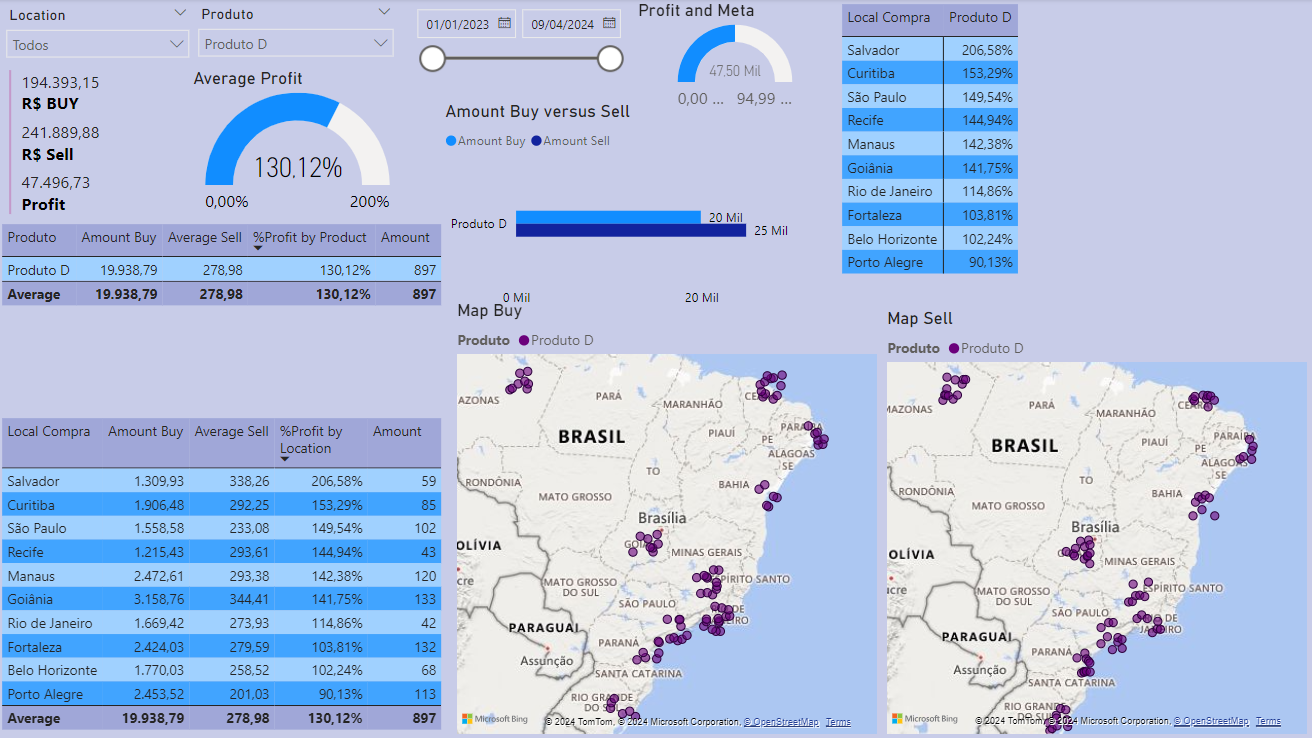

This screenshot's page, from the dashboard's own definition file:
{"tool":"powerbi","page":{"name":"Profit Page","canvas":[1280,720],"ordinal":0},"visuals":[{"type":"clusteredBarChart","title":"Amount Buy versus Sell","fields":{"Y":["Sum(compras.Preço Compra)","Sum(vendas.Preço Venda)"],"Category":["Product.Produto"]},"box":[443.5,0,374.5,275.3],"z":0},{"type":"tableEx","fields":{"Values":["Product.Produto","Sum(compras.Preço Compra)","Avg(vendas.Preço Venda)","TabelaDatas.%LPP","Sum(compras.Quantidade)"]},"box":[0,214,443.5,188.7],"z":1},{"type":"map","title":"Map Sell","fields":{"X":["compras.Longitude"],"Y":["compras.Latitude"],"Series":["Product.Produto"]},"box":[861.8,275.3,418.2,444.5],"z":2},{"type":"slicer","fields":{"Values":["Location.Local Compra"]},"box":[0,1.9,226.6,65.2],"z":3},{"type":"slicer","fields":{"Values":["Product.Produto"]},"box":[226.6,0,210.1,67.1],"z":4},{"type":"map","title":"Map Buy","fields":{"Series":["Product.Produto"],"Y":["vendas.Latitude"],"X":["vendas.Longitude"]},"box":[443.5,275.3,418.2,444.5],"z":5},{"type":"tableEx","fields":{"Values":["Location.Local Compra","Sum(compras.Preço Compra)","Avg(vendas.Preço Venda)","TabelaDatas.%LPP","Sum(compras.Quantidade)"]},"box":[0,402.7,443.5,317.1],"z":6},{"type":"pivotTable","fields":{"Rows":["Location.Local Compra"],"Values":["TabelaDatas.%LPP"],"Columns":["Product.Produto"]},"box":[818,0,462,275.3],"z":7},{"type":"gauge","title":"Average Profit ","fields":{"Y":["TabelaDatas.%LPP"],"MaxValue":["compras.Best"]},"box":[226.6,67.1,213,149.8],"z":8},{"type":"multiRowCard","fields":{"Values":["Location.Total_Compras","Location.Total_Vendas","Location.Lucro"]},"box":[7.8,64.2,211.1,149.8],"z":9}]}

Visuals, with their boxes in screenshot pixels (x1, y1, x2, y2), scaled from the page's 1280x720 canvas onto the 1312x738 screenshot:
"Amount Buy versus Sell" clusteredBarChart: x1=455 y1=0 x2=838 y2=282
tableEx - Product.Produto x Sum(compras.Preço Compra): x1=0 y1=219 x2=455 y2=413
"Map Sell" map: x1=883 y1=282 x2=1311 y2=737
slicer - Location.Local Compra: x1=0 y1=2 x2=232 y2=69
slicer - Product.Produto: x1=232 y1=0 x2=448 y2=69
"Map Buy" map: x1=455 y1=282 x2=883 y2=737
tableEx - Location.Local Compra x Sum(compras.Preço Compra): x1=0 y1=413 x2=455 y2=737
pivotTable - Location.Local Compra x TabelaDatas.%LPP: x1=838 y1=0 x2=1311 y2=282
"Average Profit " gauge: x1=232 y1=69 x2=451 y2=222
multiRowCard - Location.Total_Compras x Location.Total_Vendas: x1=8 y1=66 x2=224 y2=219
